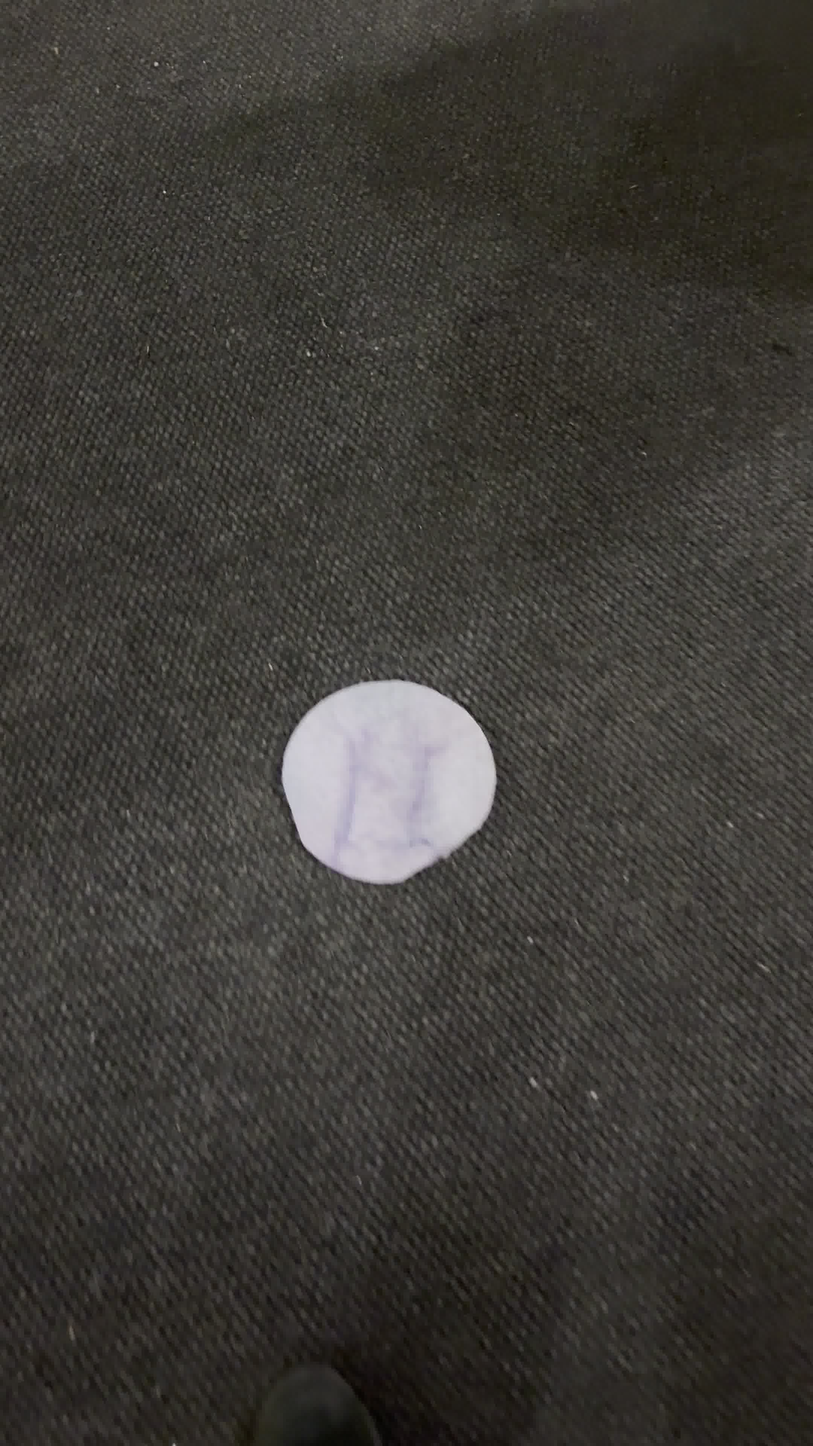Target: (277, 675, 503, 887)
